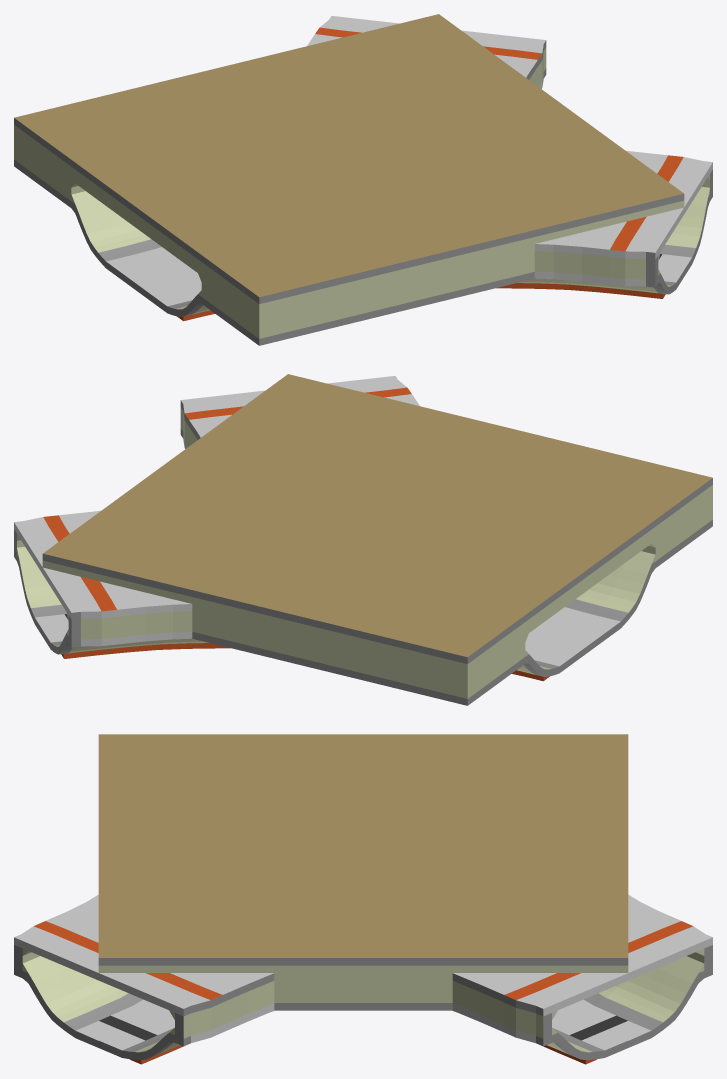
File: PlatformUnitHor_Y_SEAMED.dae
3 views of the same model, one above another, from view 1: azimuth 30°, elevation 25°; view 2: azimuth 150°, elevation 25°; view 3: azimuth 270°, elevation 25° (orthographic). The views are drawn at different scales.
Visible parts, largest first — view 1: PlatformUnitHor_Y_Lod0_001; view 2: PlatformUnitHor_Y_Lod0_001; view 3: PlatformUnitHor_Y_Lod0_001.
Part boxes in pixels (left/top/right/bottom): PlatformUnitHor_Y_Lod0_001: left=14, top=14, right=712, bottom=345; PlatformUnitHor_Y_Lod0_001: left=14, top=374, right=712, bottom=705; PlatformUnitHor_Y_Lod0_001: left=14, top=734, right=712, bottom=1064.
Size of the model in its own units: 0.7426 by 0.8451 by 0.1264.
